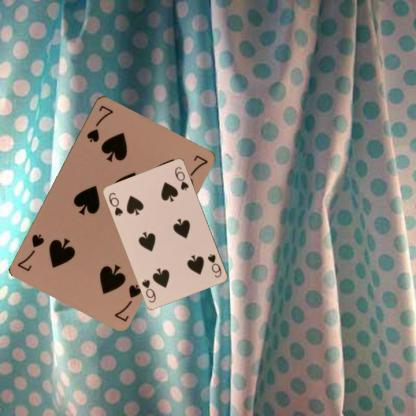6s: (205, 251, 223, 279), (107, 190, 124, 217)
7s: (84, 102, 114, 144), (112, 281, 142, 323)
